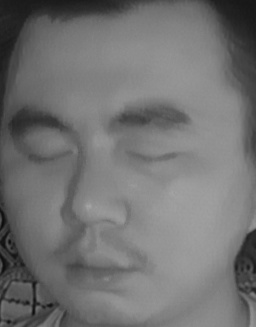blink: (126, 136, 180, 175), (24, 136, 75, 172)
mouth: (57, 238, 146, 294)
